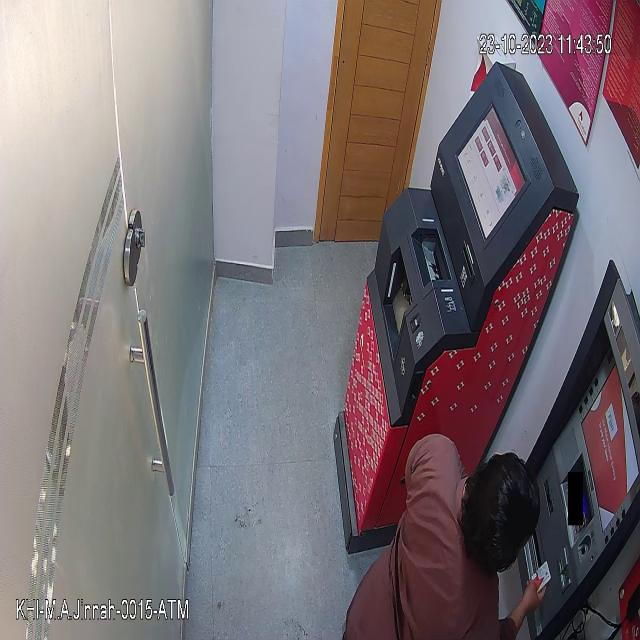atm-card: (527, 555, 555, 595)
